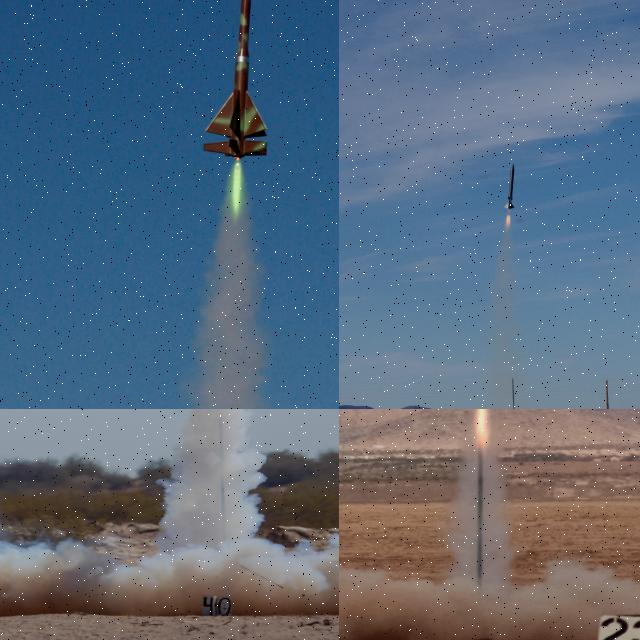Rocket: (202, 0, 270, 159), (503, 163, 515, 210)
